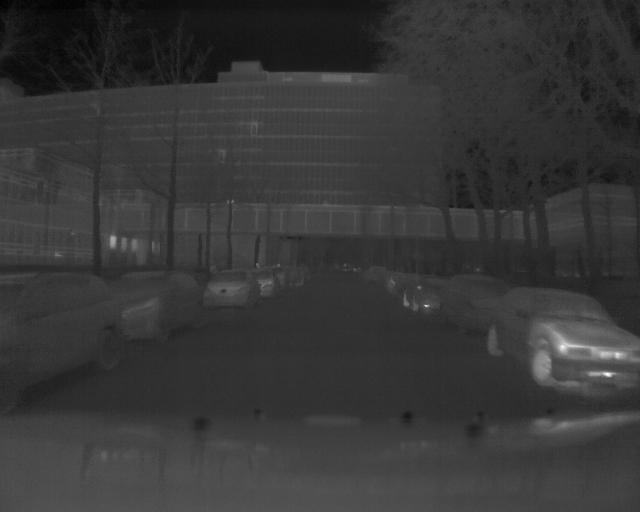car: (484, 283, 640, 392), (1, 271, 124, 406), (108, 263, 204, 340), (441, 274, 525, 336), (195, 267, 263, 311), (401, 277, 460, 314)
